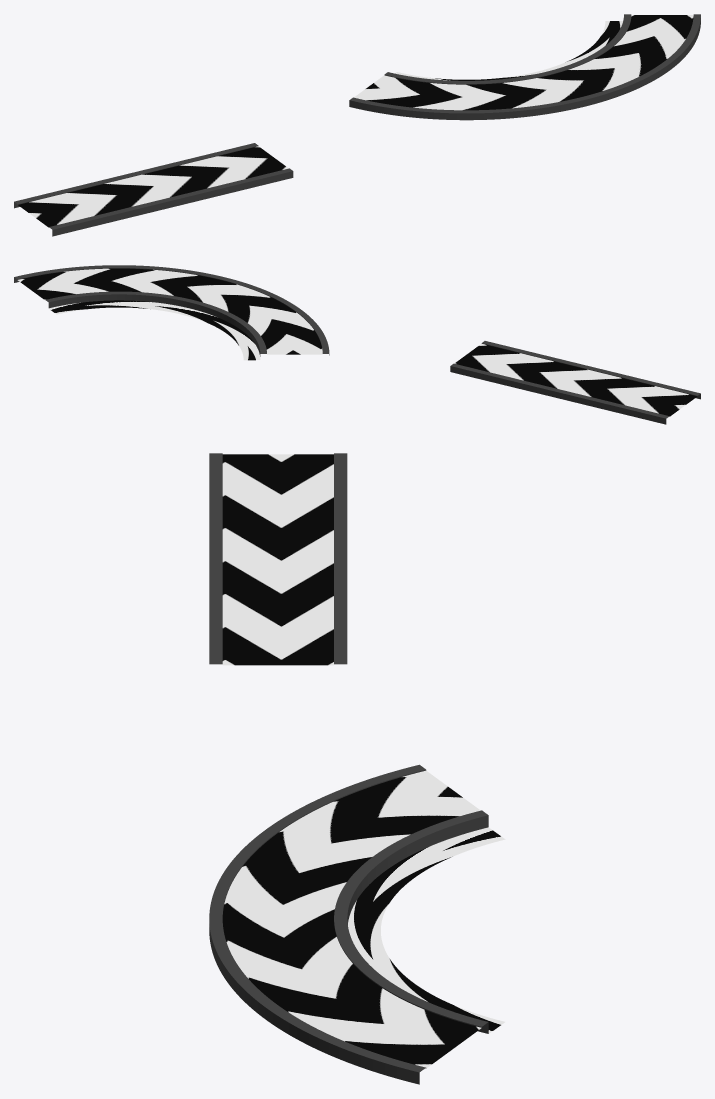
File: Conveyor.fbx
The picture shows the model from 3 angles, top to bottom: view 1: azimuth 30°, elevation 25°; view 2: azimuth 150°, elevation 25°; view 3: azimuth 270°, elevation 25°; orthographic projection. The views are drawn at different scales.
Parts seen in each view (by area): view 1: Conveyor1, Conveyor, fakeAO; view 2: Conveyor1, Conveyor, fakeAO; view 3: Conveyor1, Conveyor, fakeAO.
Part boxes in pixels (left/top/right/bottom): Conveyor1: left=349, top=14, right=700, bottom=120; Conveyor: left=14, top=143, right=293, bottom=236; fakeAO: left=395, top=21, right=622, bottom=80; Conveyor1: left=14, top=265, right=329, bottom=356; Conveyor: left=450, top=341, right=700, bottom=424; fakeAO: left=49, top=300, right=260, bottom=360; Conveyor1: left=209, top=764, right=488, bottom=1084; Conveyor: left=209, top=453, right=347, bottom=665; fakeAO: left=348, top=827, right=505, bottom=1033.
Bounding box in the file's own units: 658 × 6 × 133.
2 materials, 1 textured.
